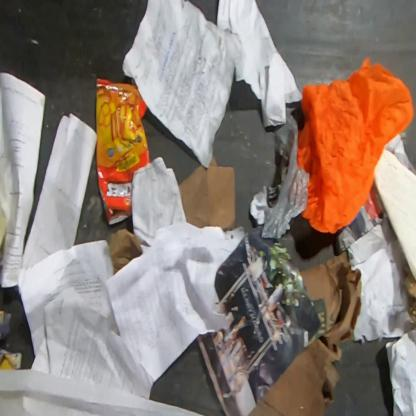cardboard: (245, 249, 364, 415), (178, 155, 236, 232), (108, 228, 144, 275), (401, 263, 415, 326)
soft_plastic: (95, 78, 151, 226), (252, 113, 311, 240)
